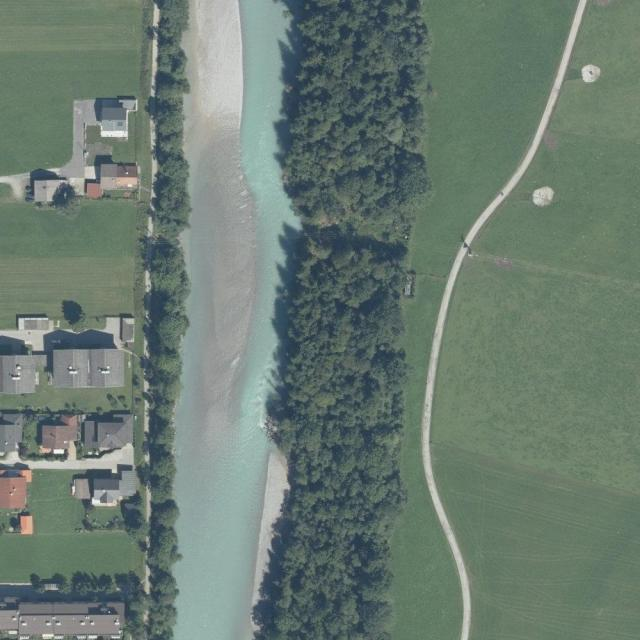building: (34, 395, 136, 507), (0, 314, 135, 394), (94, 96, 136, 138), (0, 457, 32, 510), (0, 409, 25, 456), (100, 164, 139, 190), (33, 179, 68, 203)
greenland: (284, 0, 430, 241), (0, 470, 134, 582), (0, 257, 133, 329), (30, 571, 145, 614)
wetland: (173, 413, 268, 640)
